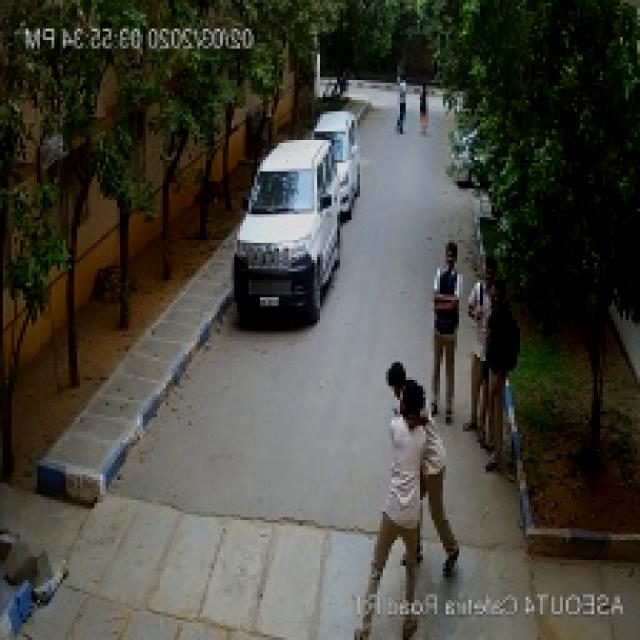fight: (333, 358, 480, 638)
